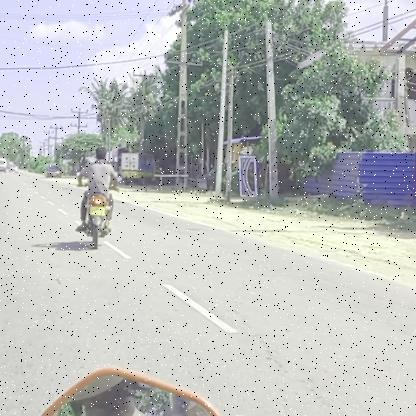motorcycle: (74, 190, 115, 251)
